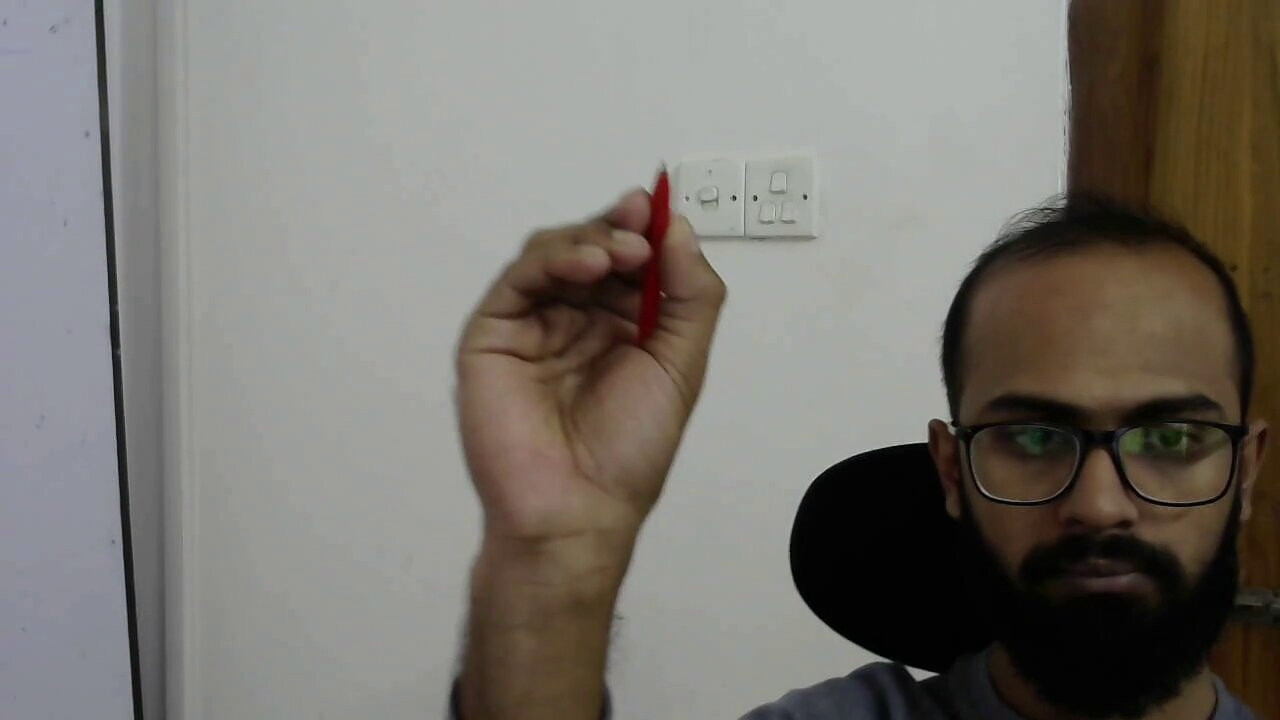pointer: (456, 187, 731, 433)
